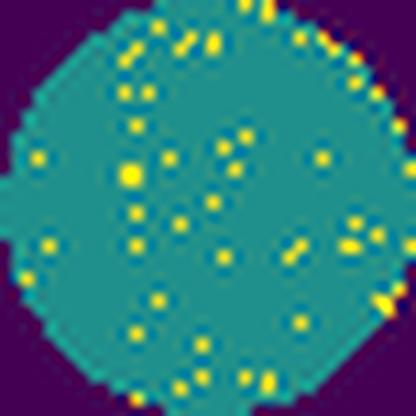Loc: (118, 159, 142, 189)
